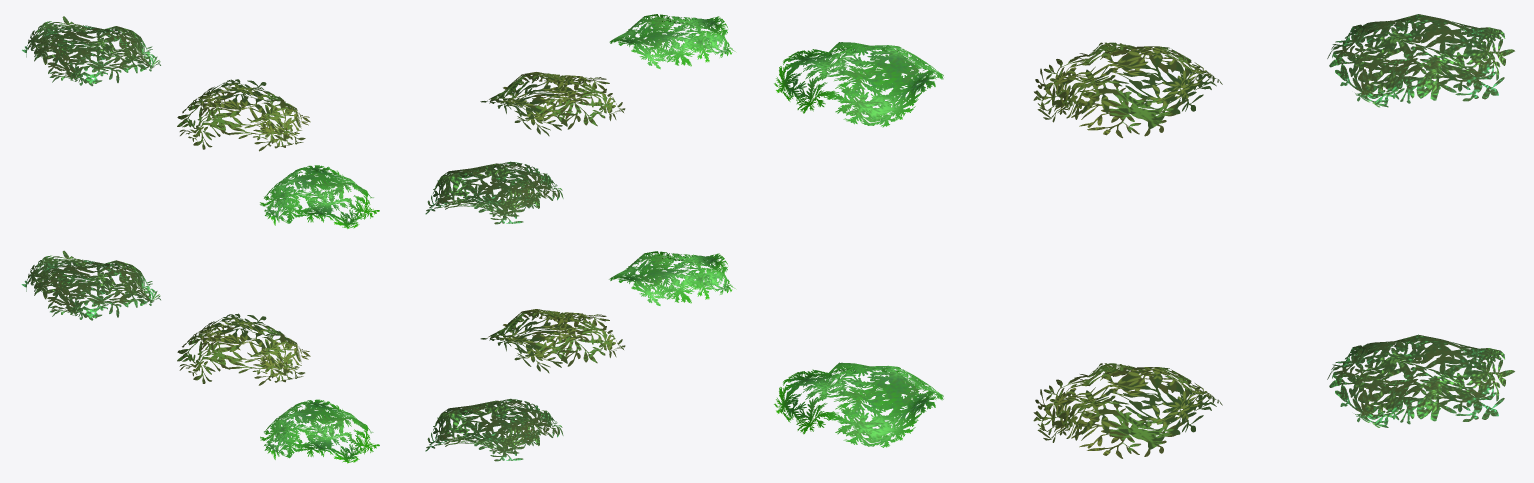
File: leafTest.fbx
The picture shows the model from 3 angles, left to right: view 1: azimuth 30°, elevation 25°; view 2: azimuth 150°, elevation 25°; view 3: azimuth 270°, elevation 25°; orthographic projection. The views are drawn at different scales.
Parts seen in each view (by area): view 1: leafTest; view 2: leafTest; view 3: leafTest.
Boxes of the visible parts, <box> form: leafTest: <box>21,16,379,463</box>; leafTest: <box>425,14,735,461</box>; leafTest: <box>774,14,1514,458</box>.
Bounding box in the file's own units: 403 × 578 × 1081.
